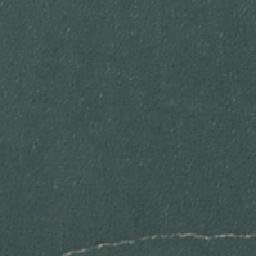debris: (188, 229, 256, 241), (61, 243, 102, 256), (103, 236, 147, 247), (150, 230, 187, 242)
